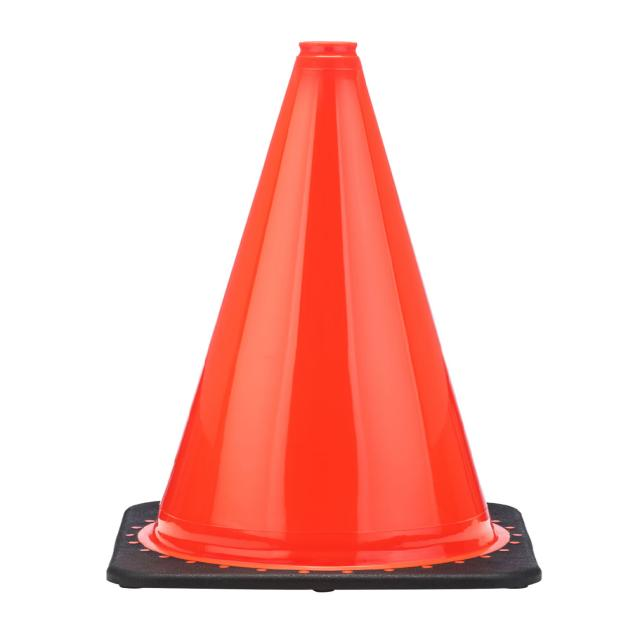traffic cone: (91, 33, 552, 598)
